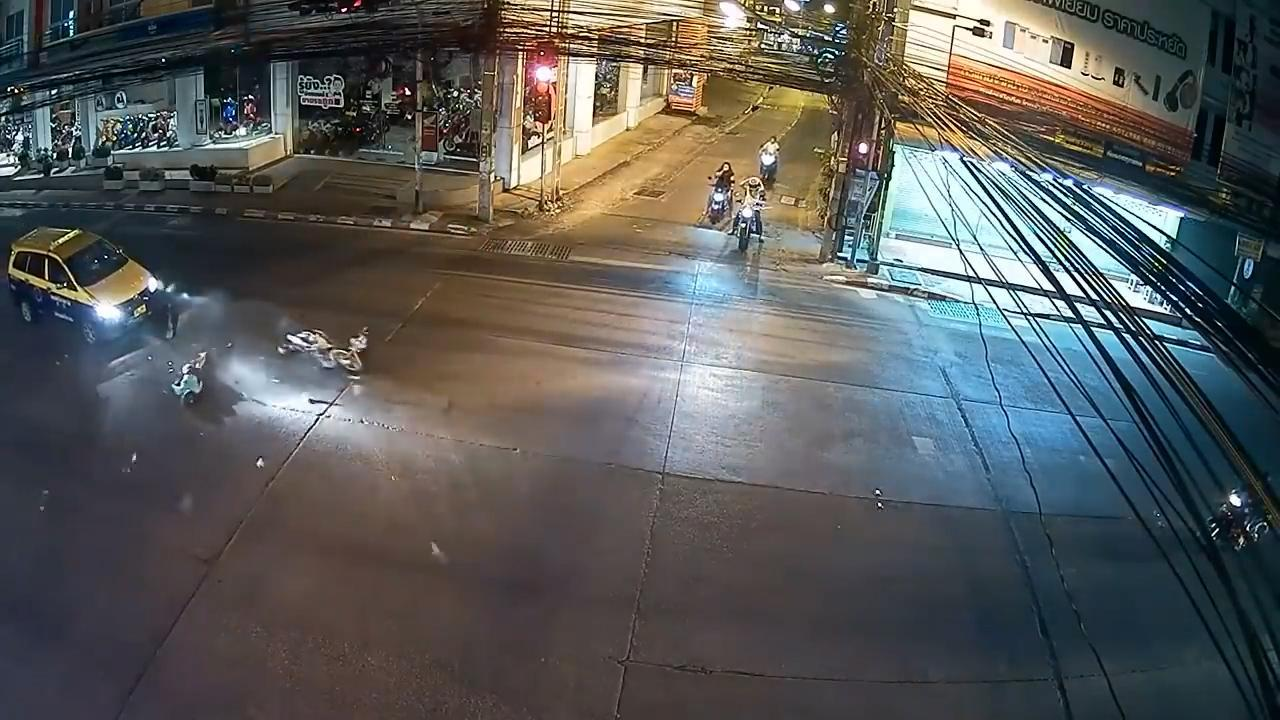accident: (171, 350, 211, 407)
